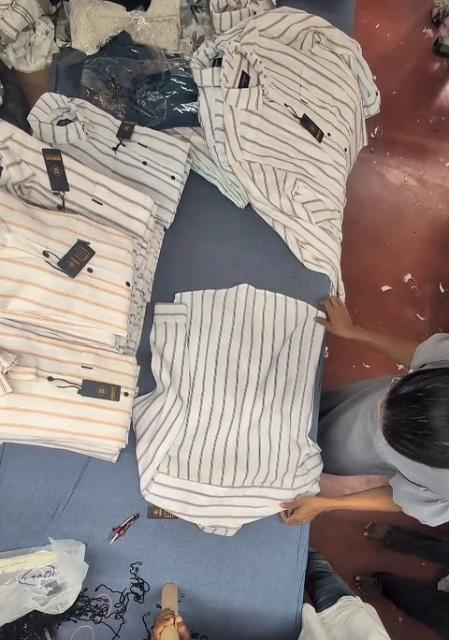new-garment: (133, 284, 322, 534)
